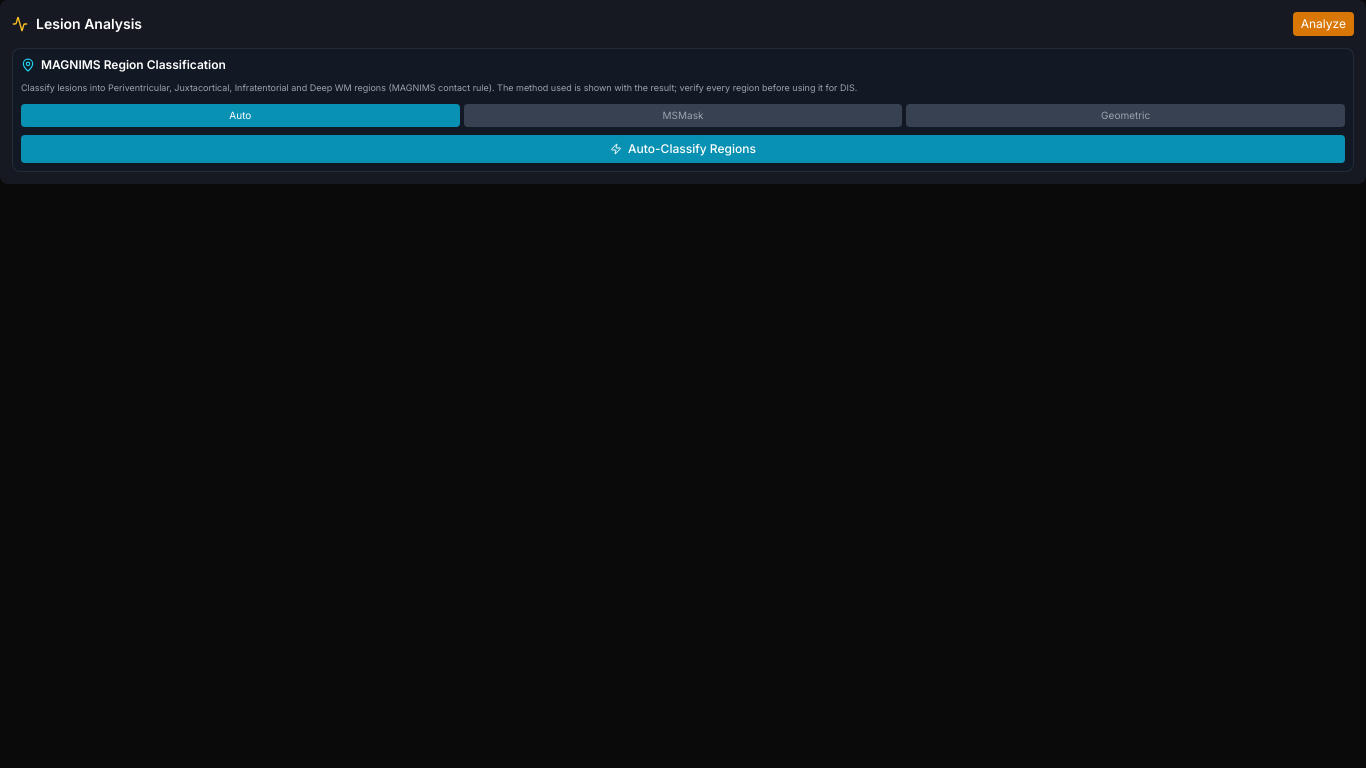
Test: N1: one region per lesion; region corrections are listed and acknowledged › rc070 review2 an evaluated result says it includes acknowledged corrections
The image size is (1366, 768).
Click the button "Analyze". click: x=1323, y=24
box: 1293,12 -> 1354,36
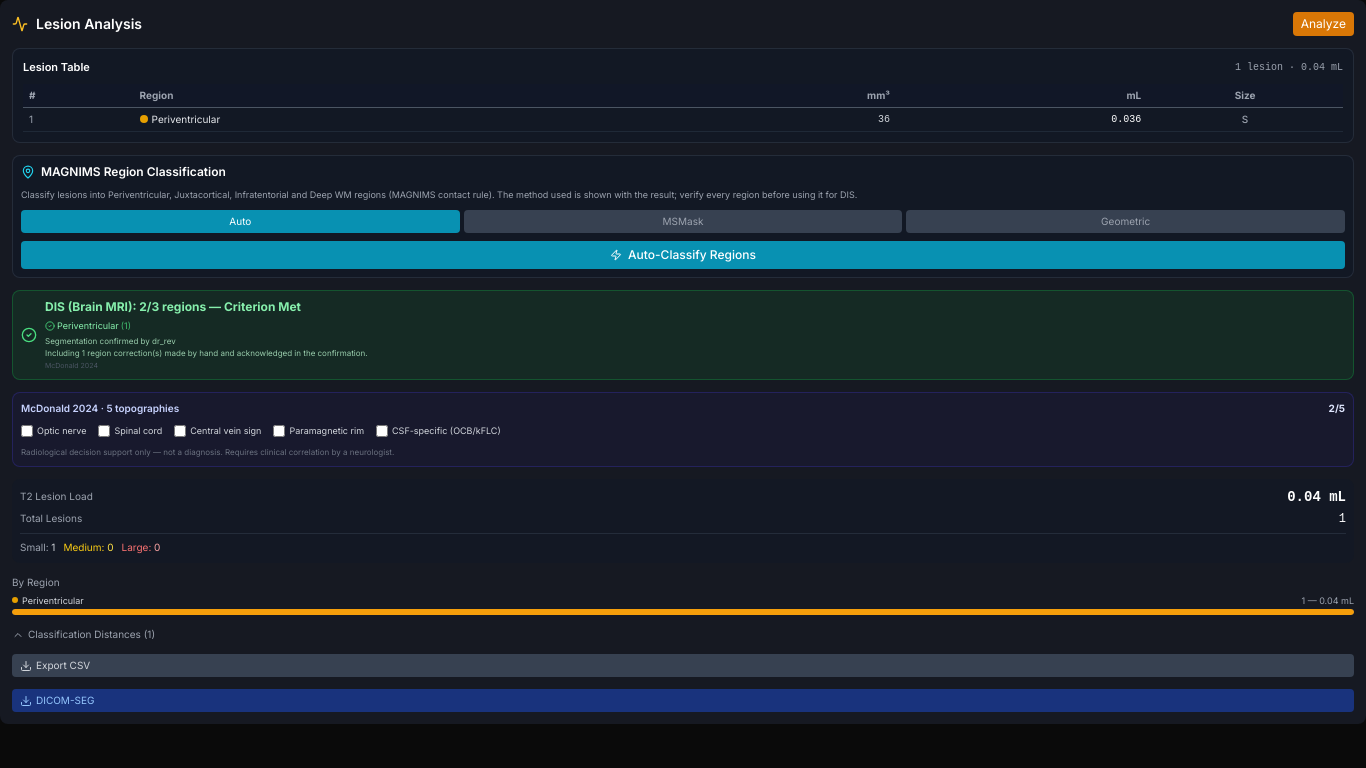
expect the text with test id "dis-confirmed-corrections" shows "1 region correction": met, box 45,348 -> 368,358
